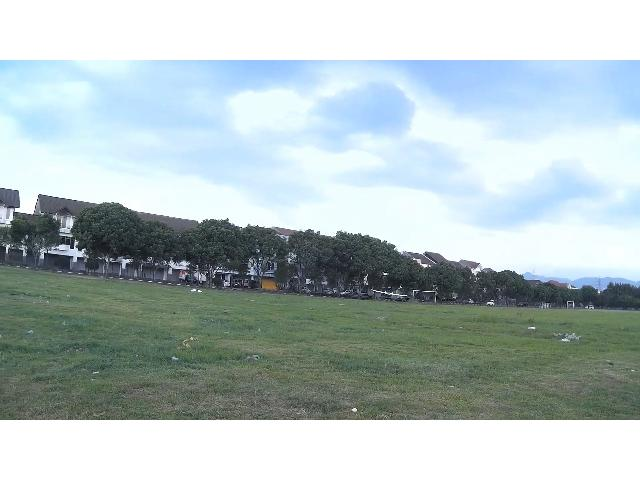Anti-Drone: (360, 281, 420, 307)
